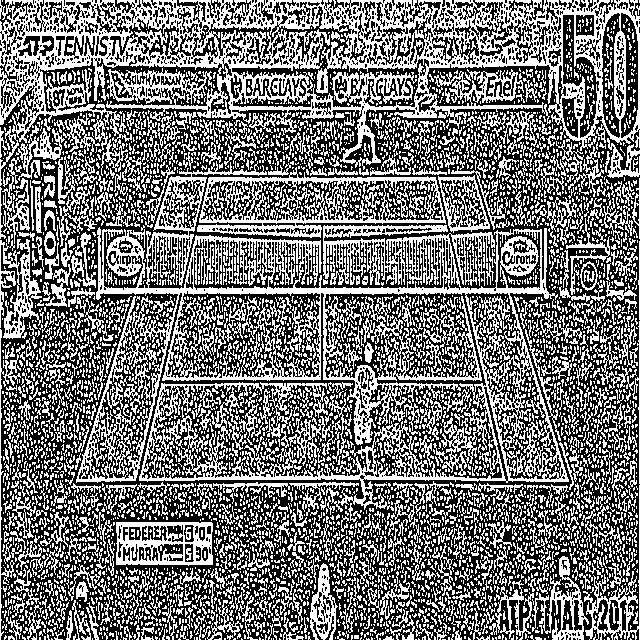left side: (74, 175, 208, 483), (437, 174, 570, 482)
player: (346, 338, 388, 504), (342, 84, 382, 162)
